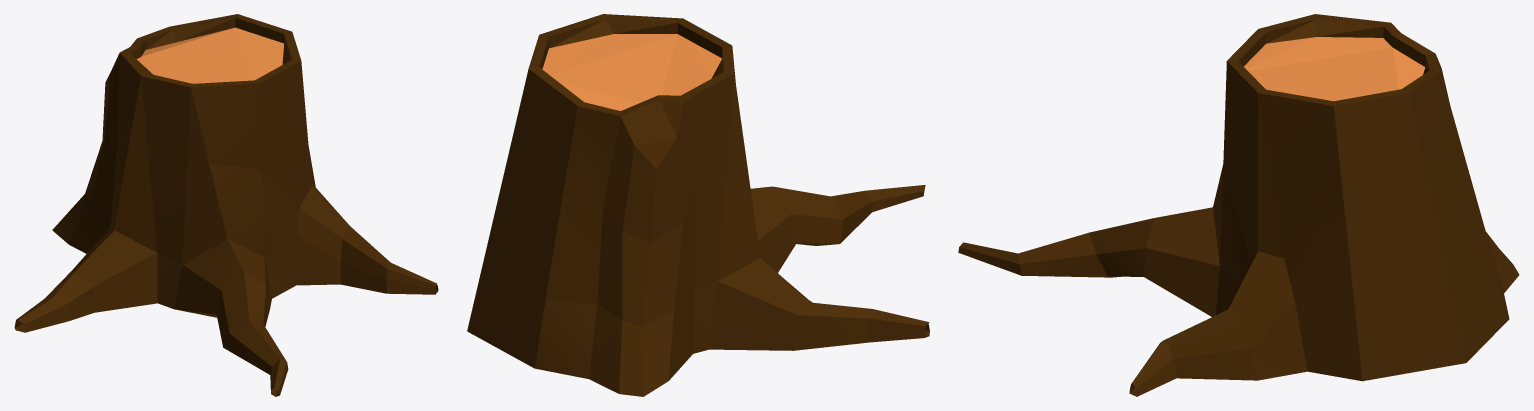
The model's file is TreeCut2.fbx.
The picture shows the model from 3 angles, left to right: view 1: azimuth 30°, elevation 25°; view 2: azimuth 150°, elevation 25°; view 3: azimuth 270°, elevation 25°; orthographic projection. The views are drawn at different scales.
Parts seen in each view (by area): view 1: DeadTree005; view 2: DeadTree005; view 3: DeadTree005.
Boxes of the visible parts, x1,y1,x2,y2 form: DeadTree005: (14,14,438,396); DeadTree005: (467,14,929,396); DeadTree005: (958,14,1519,396).
Bounding box in the file's own units: 54.41 × 30.39 × 60.45.
